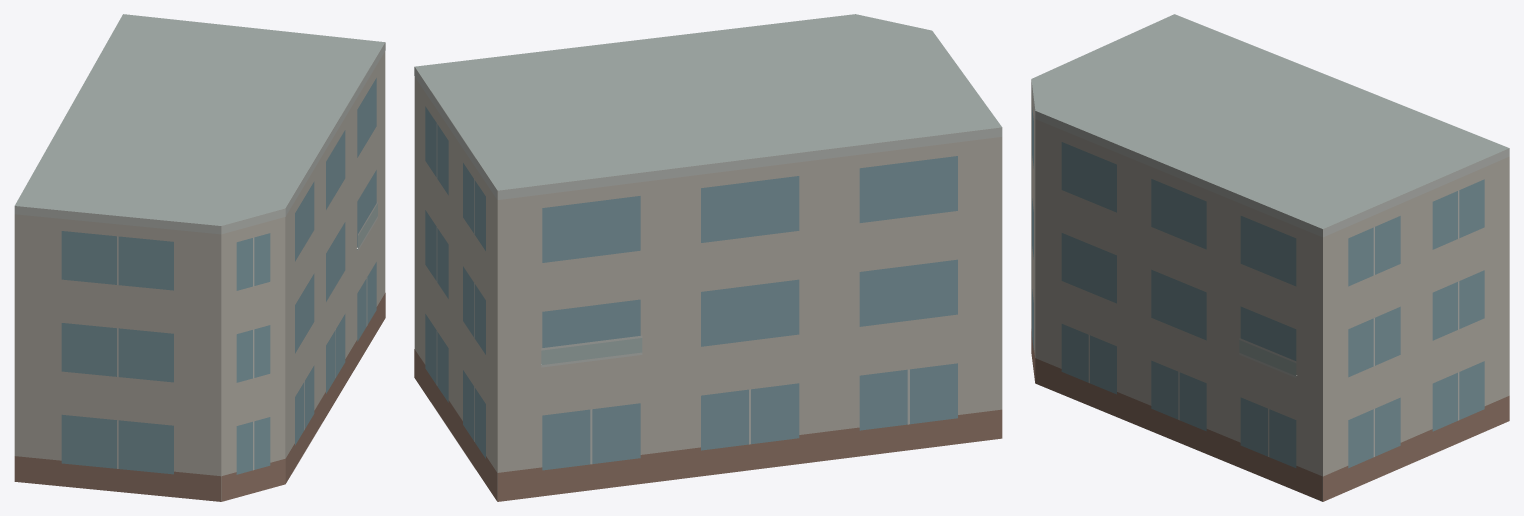
File: survey-upis-32513151.glb
3 renders of one model, left to right at view 1: azimuth 30°, elevation 25°; view 2: azimuth 150°, elevation 25°; view 3: azimuth 270°, elevation 25°, orthographic. The views are drawn at different scales.
Parts seen in each view (by area): view 1: survey-upis-32513151.tmp; view 2: survey-upis-32513151.tmp; view 3: survey-upis-32513151.tmp.
Boxes of the visible parts, x1,y1,x2,y2 form: survey-upis-32513151.tmp: (14, 14, 385, 501); survey-upis-32513151.tmp: (414, 14, 1002, 501); survey-upis-32513151.tmp: (1031, 14, 1509, 501).
Bounding box in the file's own units: 13.63 × 8.05 × 12.81.
